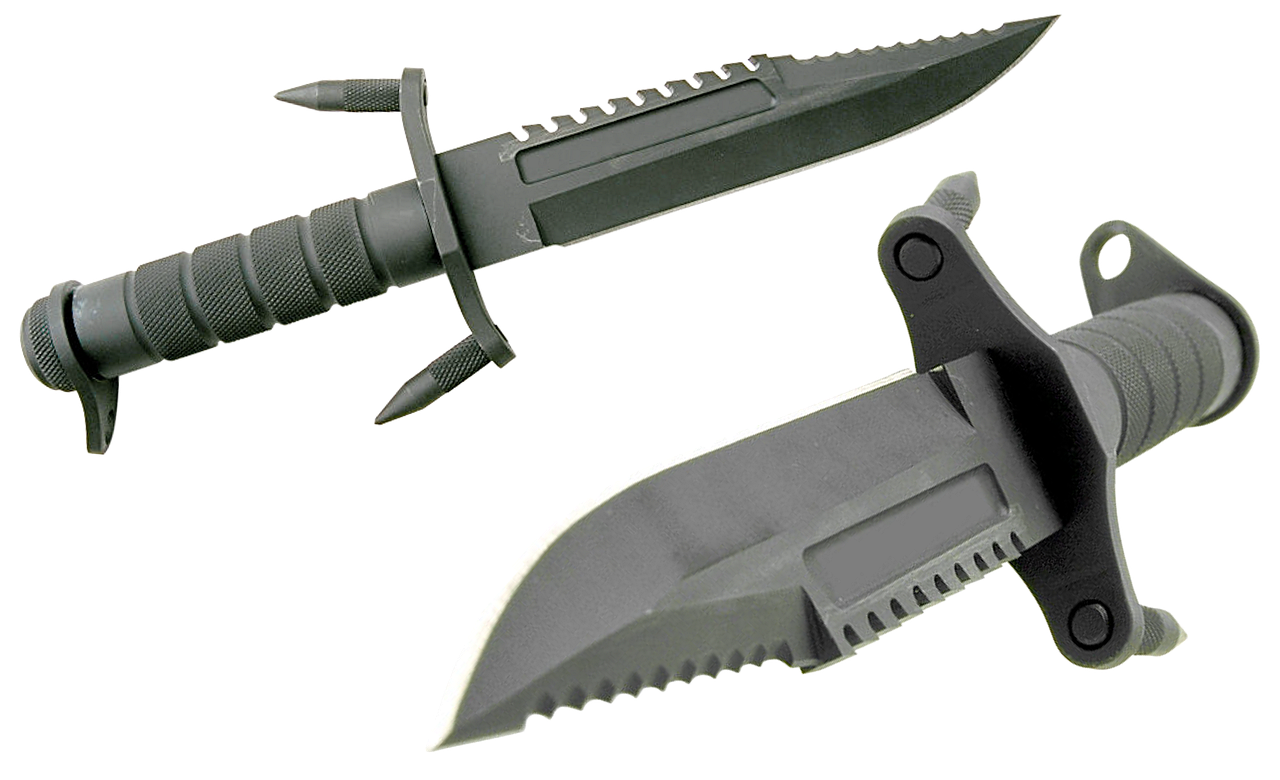knife: (420, 160, 1267, 762), (18, 3, 1073, 467)
